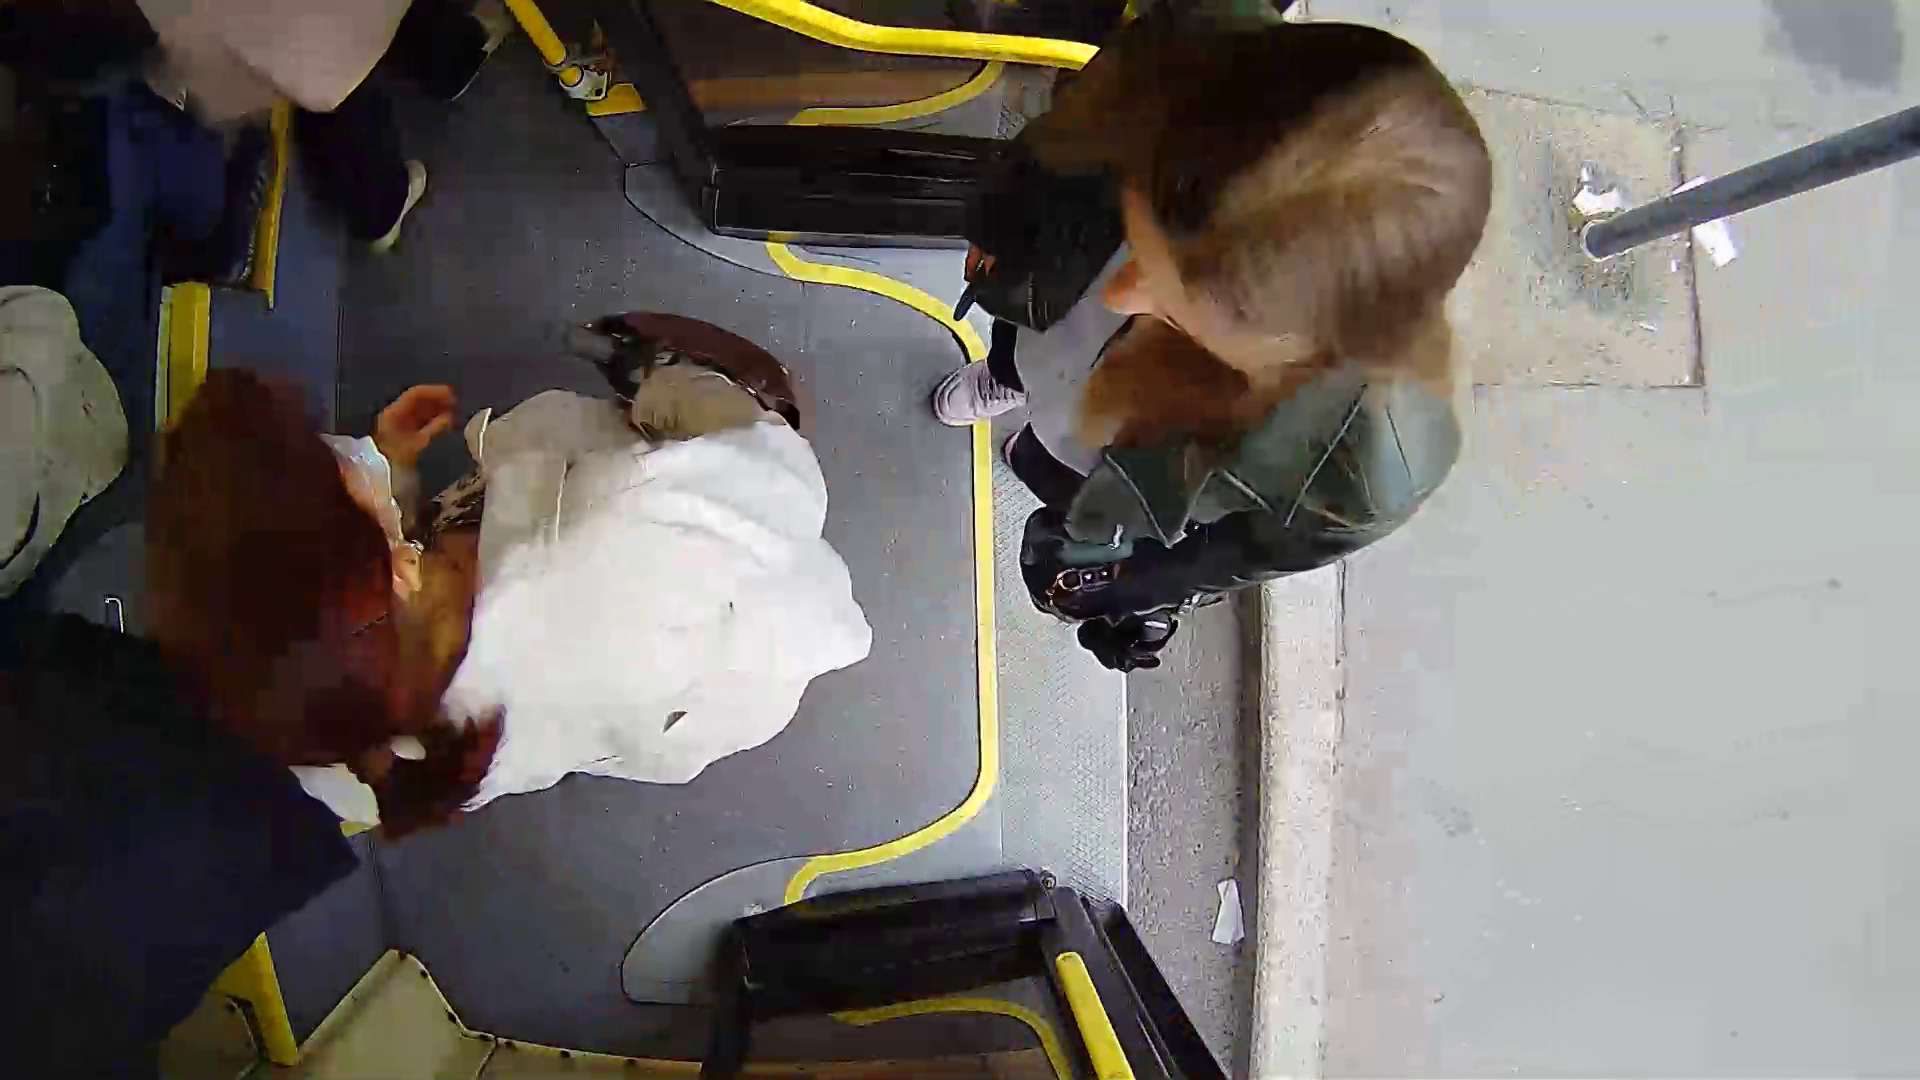person: (910, 49, 1569, 667), (115, 292, 864, 794)
